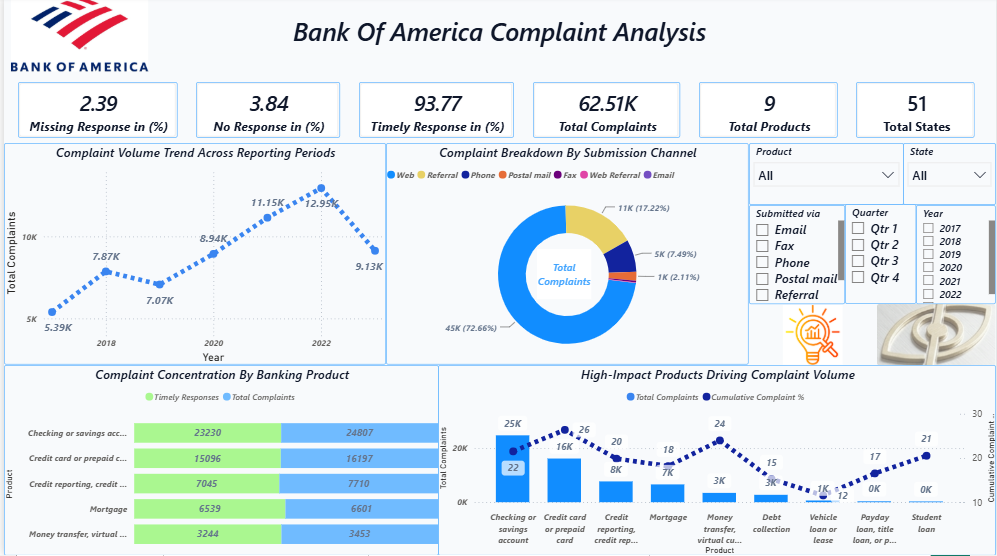

Layout of this report page (visuals, bound fields, positions):
{"tool":"powerbi","page":{"name":"Executive Summary","canvas":[1280,720],"ordinal":0},"visuals":[{"type":"cardVisual","fields":{"Data":["Dax Measures.Total Complaints"]},"box":[682.6,109.1,189.9,72.3],"z":0},{"type":"donutChart","title":"Complaint Breakdown By Submission Channel","fields":{"Category":["Complaint Data.Submitted via"],"Y":["Dax Measures.Total Complaints"]},"box":[493.2,188.5,467.7,286.3],"z":1000},{"type":"lineChart","title":"Complaint Volume Trend Across Reporting Periods","fields":{"Category":["Complaint Data.Date submitted.Variation.Date Hierarchy.Year","Complaint Data.Date submitted.Variation.Date Hierarchy.Quarter"],"Y":["Dax Measures.Total Complaints"]},"box":[0,188.6,492.7,285.6],"z":2000},{"type":"lineClusteredColumnComboChart","title":"High-Impact Products Driving Complaint Volume","fields":{"Category":["Complaint Data.Product"],"Y":["Dax Measures.Total Complaints"],"Y2":["Dax Measures.Cumulative Complaint %"]},"box":[559.6,474.7,720.4,245.7],"z":3000},{"type":"hundredPercentStackedBarChart","title":"Complaint Concentration By Banking Product","fields":{"Category":["Complaint Data.Product"],"Y":["Dax Measures.Timely Responses","Dax Measures.Total Complaints"]},"box":[0,474.8,561.1,245.6],"z":4000},{"type":"cardVisual","fields":{"Data":["Dax Measures.Timely Response %"]},"box":[458.4,109.1,199.8,72.3],"z":5000},{"type":"shape","box":[687.2,325.4,70.2,64.7],"z":6000},{"type":"cardVisual","fields":{"Data":["Dax Measures.Missing Response%"]},"box":[18.4,109.1,205.5,72.3],"z":10000},{"type":"cardVisual","fields":{"Data":["Dax Measures.Total States"]},"box":[1099.8,109.1,153.1,72.3],"z":12000},{"type":"cardVisual","fields":{"Data":["Dax Measures.Total Products"]},"box":[896.9,109.1,178.6,72.3],"z":13000},{"type":"textbox","box":[154.2,16.5,971.7,56.4],"z":14000},{"type":"slicer","fields":{"Values":["Complaint Data.Date submitted.Variation.Date Hierarchy.Year"]},"box":[1176.8,268.4,103.2,128],"z":15000},{"type":"slicer","fields":{"Values":["Complaint Data.Product"]},"box":[960.7,188.6,199.6,79.8],"z":16000},{"type":"slicer","fields":{"Values":["Complaint Data.State"]},"box":[1160.3,188.6,119.7,79.8],"z":17000},{"type":"slicer","fields":{"Values":["Complaint Data.Submitted via"]},"box":[960.7,268.4,123.9,128],"z":18000},{"type":"image","box":[0,0,195.6,96.4],"z":19000},{"type":"cardVisual","fields":{"Data":["Dax Measures.No Response %"]},"box":[248.3,109.1,185.7,72.3],"z":20000},{"type":"slicer","fields":{"Values":["Complaint Data.Date submitted.Variation.Date Hierarchy.Quarter"]},"box":[1084.6,267,92.2,129.4],"z":21000},{"type":"image","box":[960,397.1,167.1,77.1],"z":22000},{"type":"image","box":[1126.6,395.6,153.4,78.8],"z":23000}]}

Visuals, with their boxes in screenshot pixels (x1, y1, x2, y2), scaled from the page's 1280x720 canvas onto the 997x556 screenshot:
cardVisual - Dax Measures.Total Complaints: detection(532, 84, 680, 140)
"Complaint Breakdown By Submission Channel" donutChart: detection(384, 146, 748, 367)
"Complaint Volume Trend Across Reporting Periods" lineChart: detection(0, 146, 384, 366)
"High-Impact Products Driving Complaint Volume" lineClusteredColumnComboChart: detection(436, 367, 996, 555)
"Complaint Concentration By Banking Product" hundredPercentStackedBarChart: detection(0, 367, 437, 555)
cardVisual - Dax Measures.Timely Response %: detection(357, 84, 513, 140)
shape: detection(535, 251, 590, 301)
cardVisual - Dax Measures.Missing Response%: detection(14, 84, 174, 140)
cardVisual - Dax Measures.Total States: detection(857, 84, 976, 140)
cardVisual - Dax Measures.Total Products: detection(699, 84, 838, 140)
textbox: detection(120, 13, 877, 56)
slicer - Complaint Data.Date submitted.Variation.Date Hierarchy.Year: detection(917, 207, 996, 306)
slicer - Complaint Data.Product: detection(748, 146, 904, 207)
slicer - Complaint Data.State: detection(904, 146, 996, 207)
slicer - Complaint Data.Submitted via: detection(748, 207, 845, 306)
image: detection(0, 0, 152, 74)
cardVisual - Dax Measures.No Response %: detection(193, 84, 338, 140)
slicer - Complaint Data.Date submitted.Variation.Date Hierarchy.Quarter: detection(845, 206, 917, 306)
image: detection(748, 307, 878, 366)
image: detection(878, 305, 996, 366)
